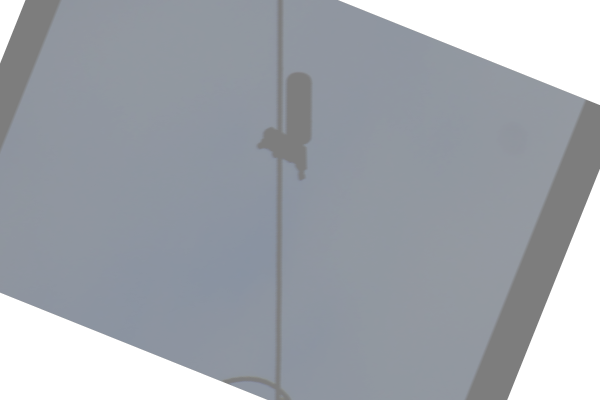damper_defect: (254, 67, 317, 190)
